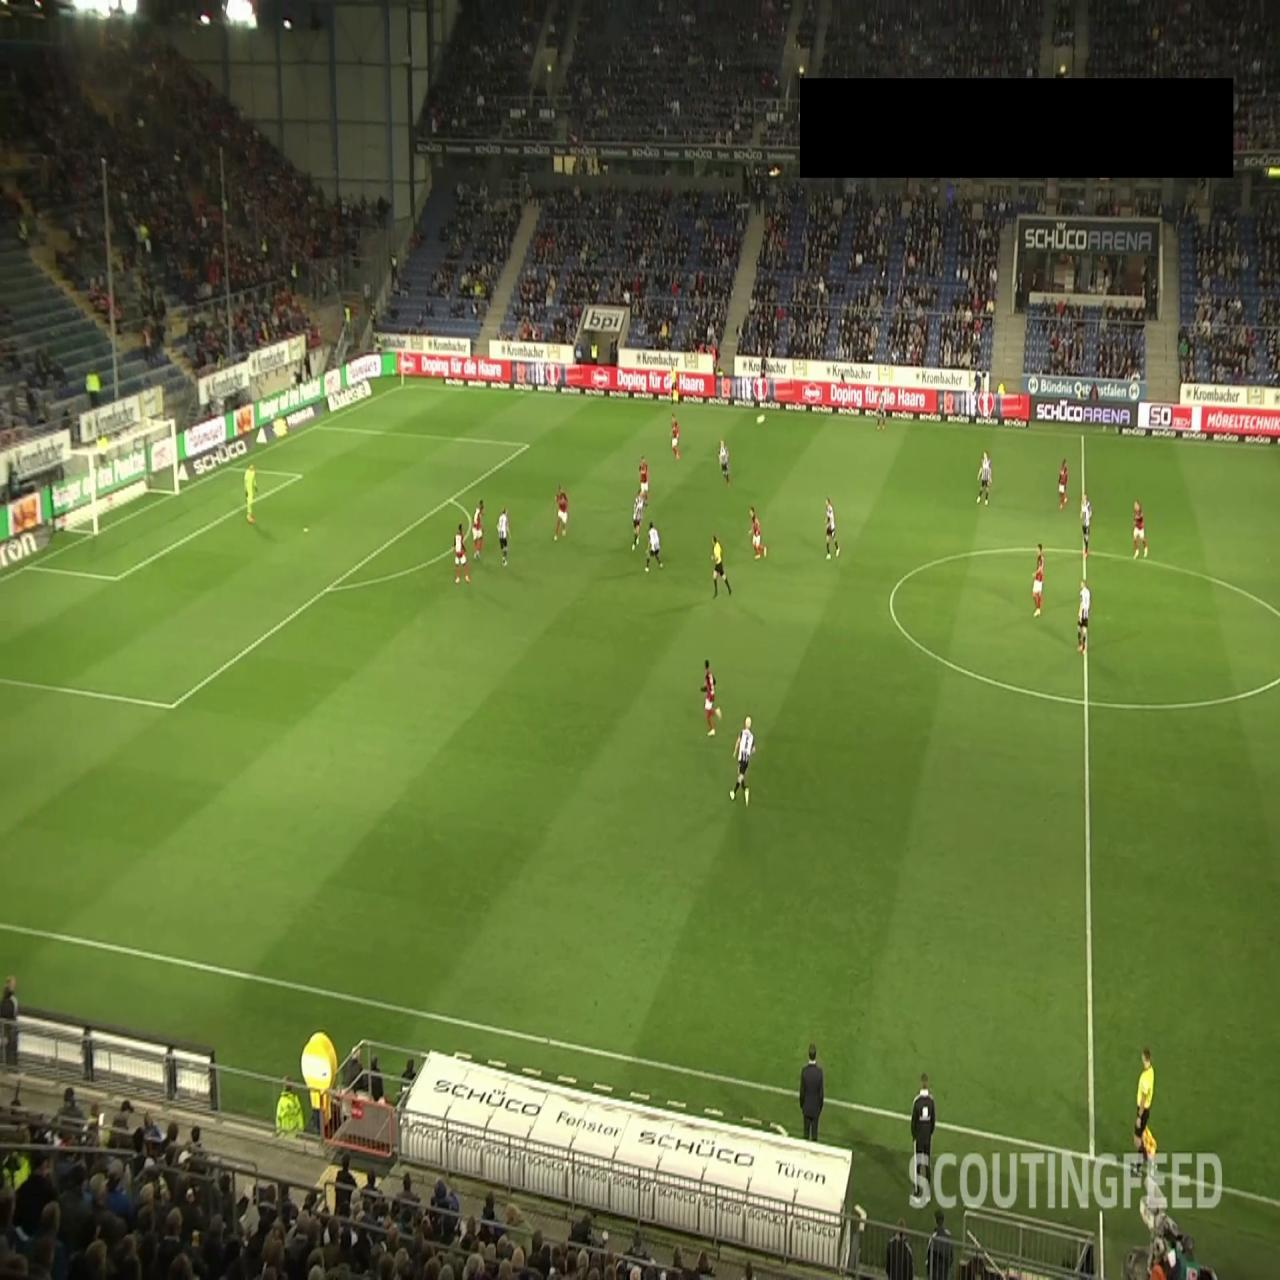Ball: (756, 413, 765, 428)
GoalKeeper: (244, 461, 259, 523)
Player: (730, 716, 756, 808), (699, 659, 720, 737), (453, 522, 471, 584), (1031, 542, 1045, 618), (644, 519, 664, 571), (1076, 578, 1090, 652), (748, 506, 767, 560), (824, 496, 840, 560), (1132, 498, 1148, 560), (496, 504, 511, 566), (976, 449, 992, 506), (554, 484, 570, 540), (1080, 492, 1092, 560), (632, 490, 645, 550), (472, 502, 484, 563), (639, 453, 650, 509), (1058, 458, 1069, 508), (719, 438, 730, 486), (670, 414, 680, 459)
Referee: (1134, 1046, 1156, 1168), (711, 534, 732, 598), (669, 364, 679, 406)
